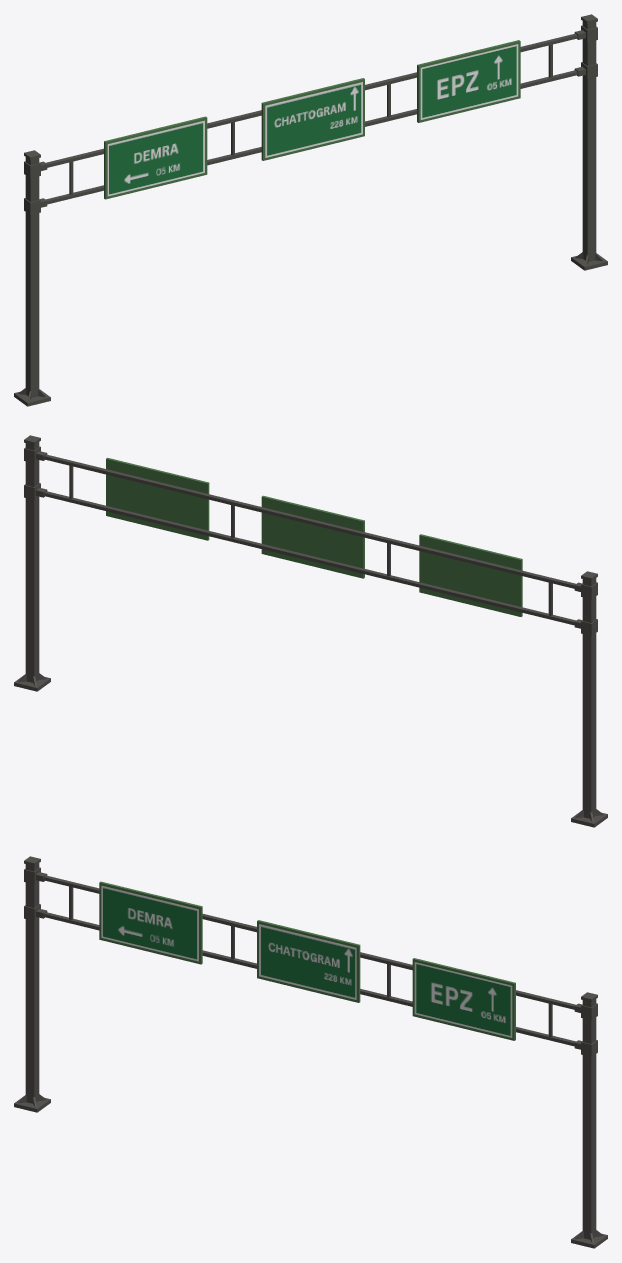
File: Bilbord2Finish.fbx
3 renders of one model, top to bottom at view 1: azimuth 30°, elevation 25°; view 2: azimuth 150°, elevation 25°; view 3: azimuth 330°, elevation 25°, orthographic.
Parts seen in each view (by area): view 1: Big_Road_Sing_1, Big_Road_Sing_1.002, Big_Road_Sing_1.001, Big_Road_Sing_1.003; view 2: Big_Road_Sing_1; view 3: Big_Road_Sing_1, Big_Road_Sing_1.002, Big_Road_Sing_1.003, Big_Road_Sing_1.001.
Part boxes in pixels (left/top/right/bottom): Big_Road_Sing_1: left=14, top=14, right=607, bottom=406; Big_Road_Sing_1.002: left=266, top=84, right=361, bottom=155; Big_Road_Sing_1.001: left=109, top=122, right=203, bottom=194; Big_Road_Sing_1.003: left=422, top=46, right=516, bottom=117; Big_Road_Sing_1: left=14, top=435, right=607, bottom=827; Big_Road_Sing_1: left=14, top=856, right=607, bottom=1248; Big_Road_Sing_1.002: left=260, top=926, right=355, bottom=997; Big_Road_Sing_1.003: left=416, top=964, right=510, bottom=1035; Big_Road_Sing_1.001: left=103, top=887, right=197, bottom=959.
Bounding box in the file's own units: 1720 × 694 × 69.38.
Materials: 4 (4 with a texture image).
